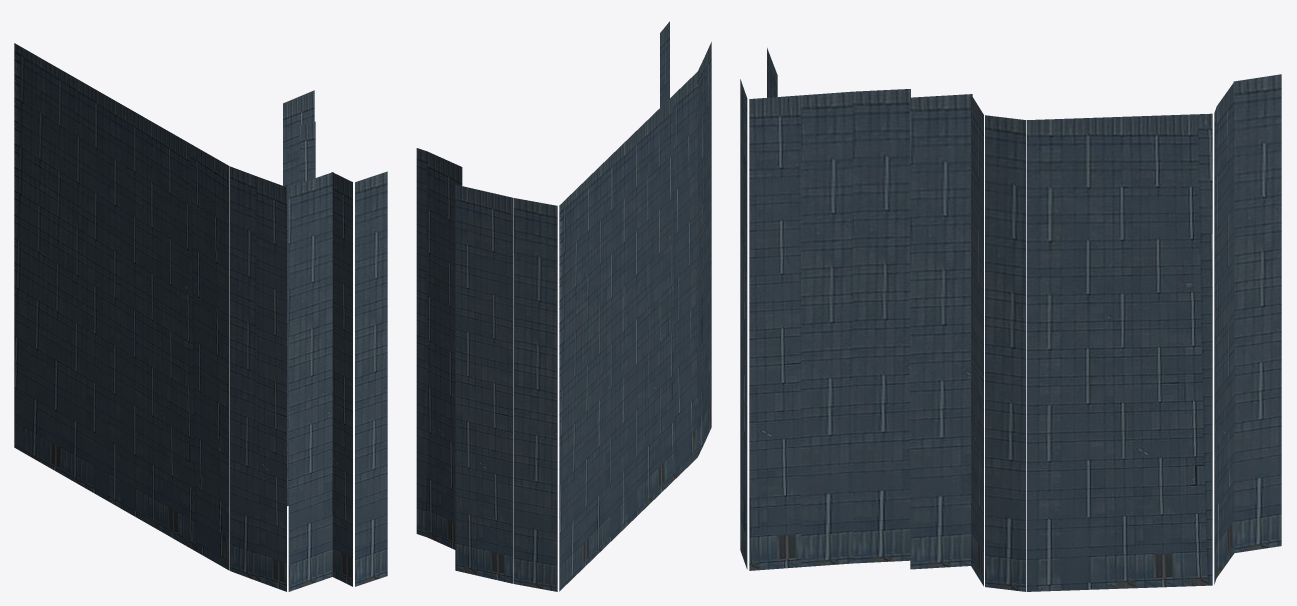
3 views of the same model, side by side, from view 1: azimuth 30°, elevation 25°; view 2: azimuth 150°, elevation 25°; view 3: azimuth 270°, elevation 25° (orthographic). The views are drawn at different scales.
Bounding box in the file's own units: 32.3 × 67.01 × 69.8.
Materials: 1 (1 with a texture image).
